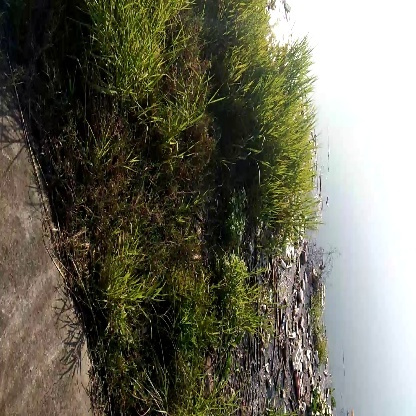grass: (254, 96, 314, 221)
